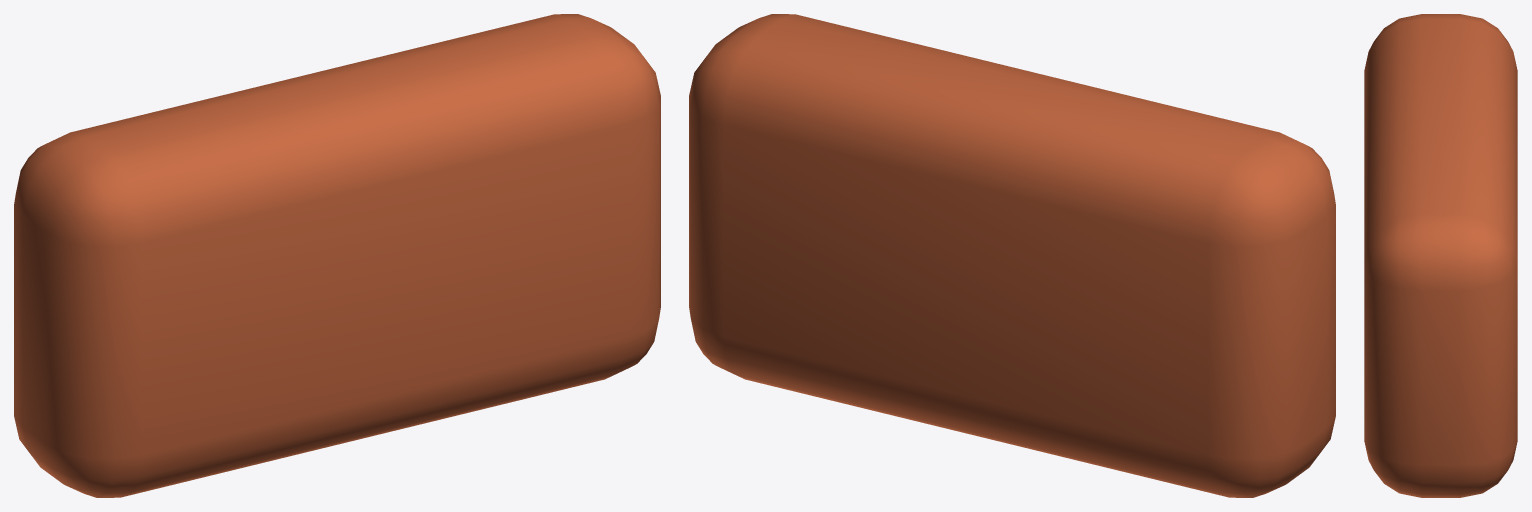
File: oscillating_multi_tool_slide_switch.glb
3 renders of one model, left to right at view 1: azimuth 30°, elevation 25°; view 2: azimuth 150°, elevation 25°; view 3: azimuth 270°, elevation 25°, orthographic. The views are drawn at different scales.
Visible parts, largest first — view 1: oscillating_multi_tool_slide_switch; view 2: oscillating_multi_tool_slide_switch; view 3: oscillating_multi_tool_slide_switch.
Part boxes in pixels (x1,y1,x2,y2): oscillating_multi_tool_slide_switch: (14,14,660,497); oscillating_multi_tool_slide_switch: (689,14,1335,497); oscillating_multi_tool_slide_switch: (1364,14,1517,497).
Size of the model in its own units: 0.03 by 0.016 by 0.008.
